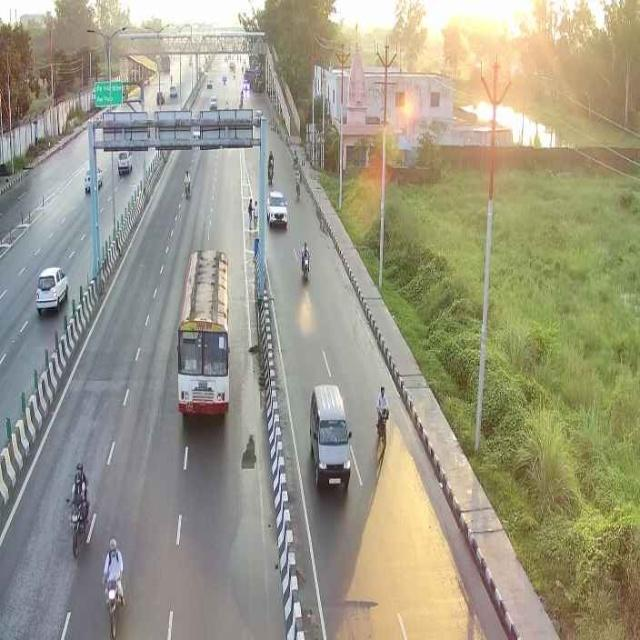car: (305, 377, 356, 499), (32, 261, 69, 318), (266, 188, 291, 229)
